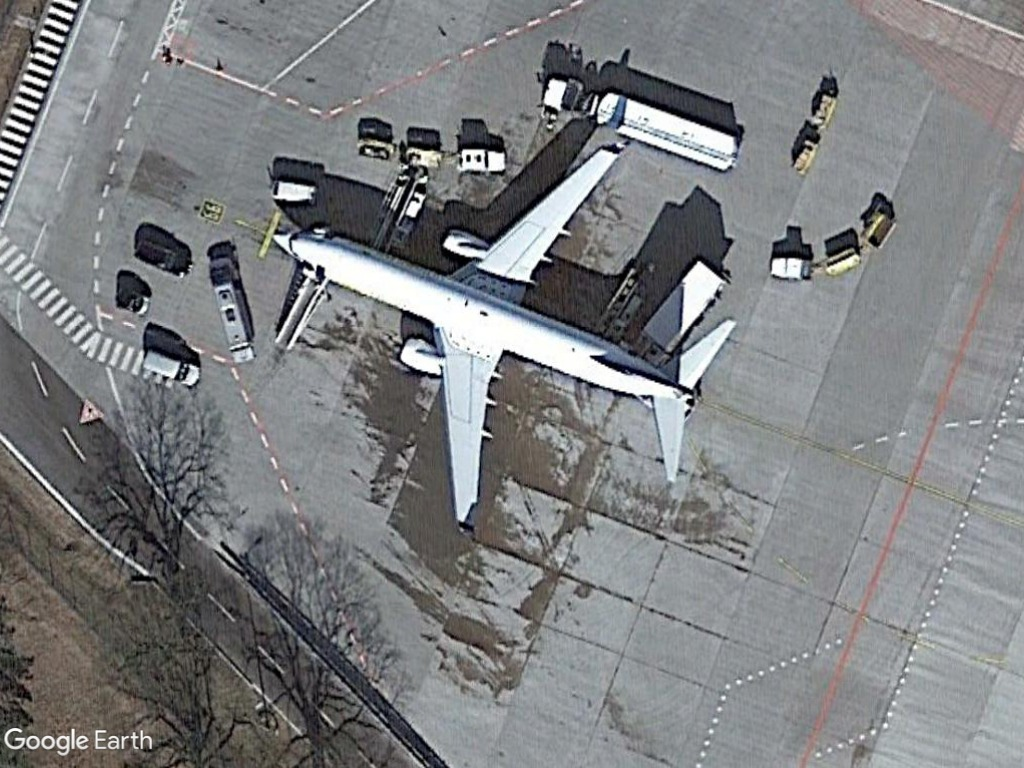airliner: (264, 137, 727, 519)
longvehicle: (539, 72, 743, 173)
stairtruck: (264, 265, 336, 356)
van: (132, 344, 208, 390), (268, 176, 325, 212)
